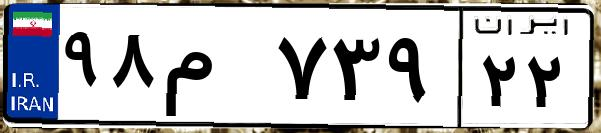2: (475, 38, 525, 113), (525, 38, 570, 115)
3: (330, 28, 385, 110)
7: (270, 28, 330, 110)
8: (110, 28, 158, 98)
9: (385, 28, 445, 110), (57, 26, 110, 100)
م: (158, 20, 270, 120)
